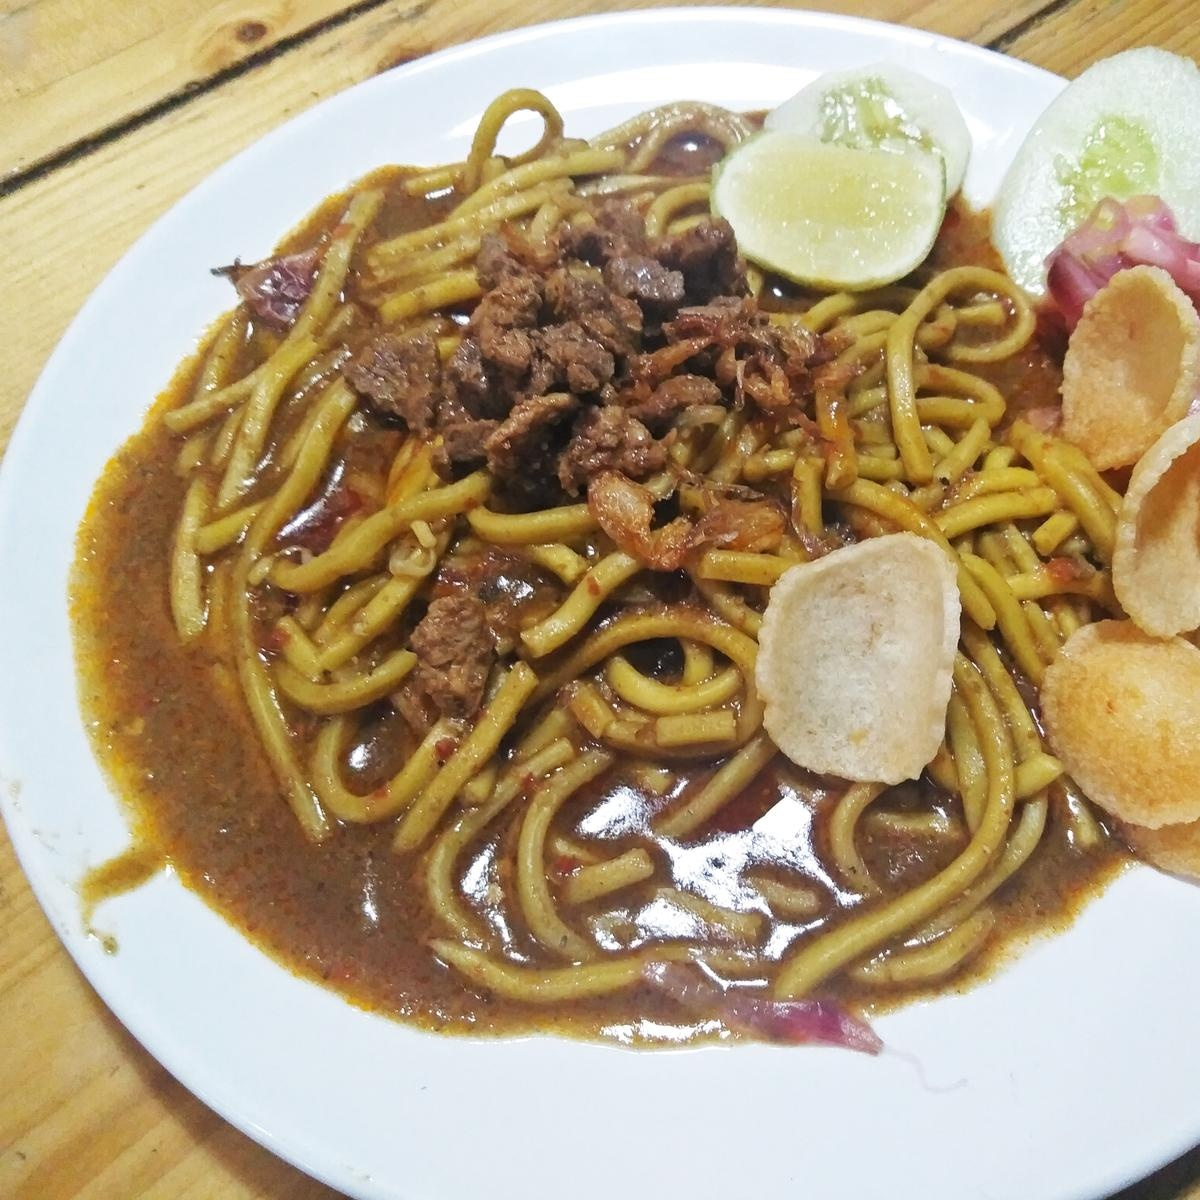mie_aceh: (86, 85, 1082, 1042)
